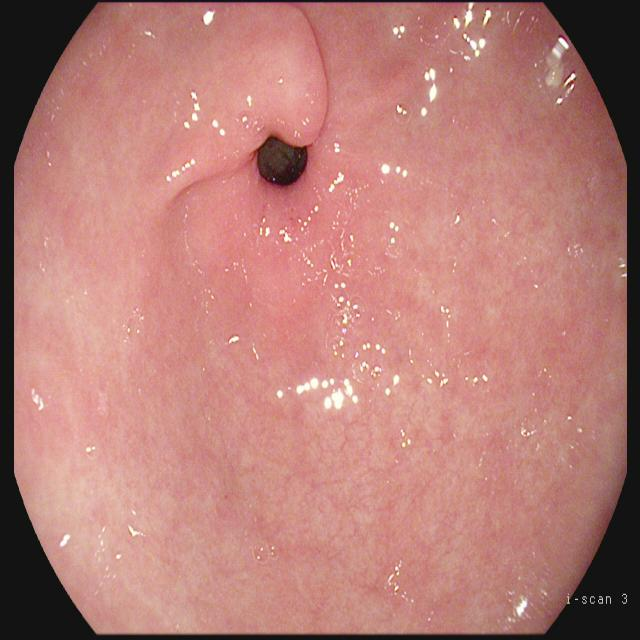normal-pylorus: (172, 0, 335, 213)
